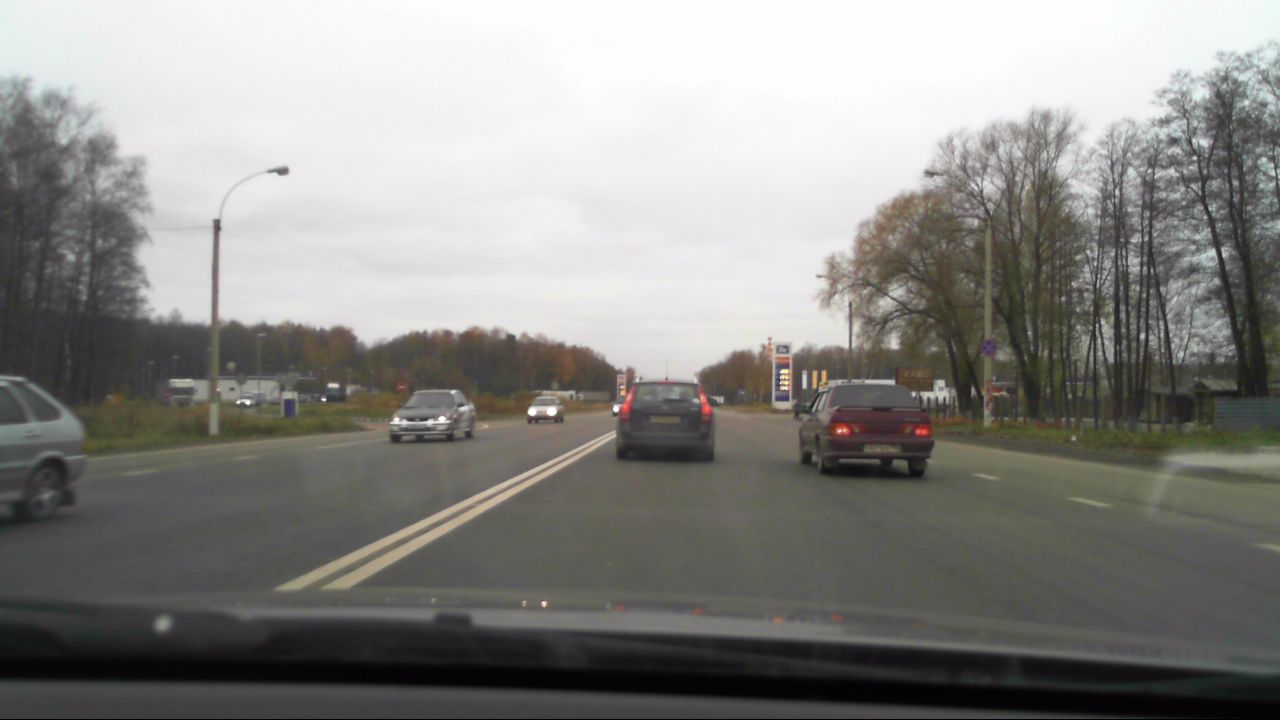No Parking: (977, 338, 999, 357)
